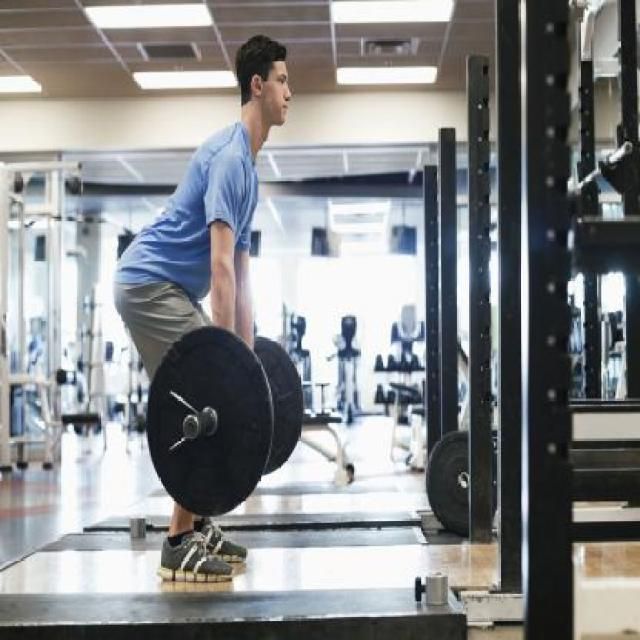Barbell: (182, 411, 200, 444)
